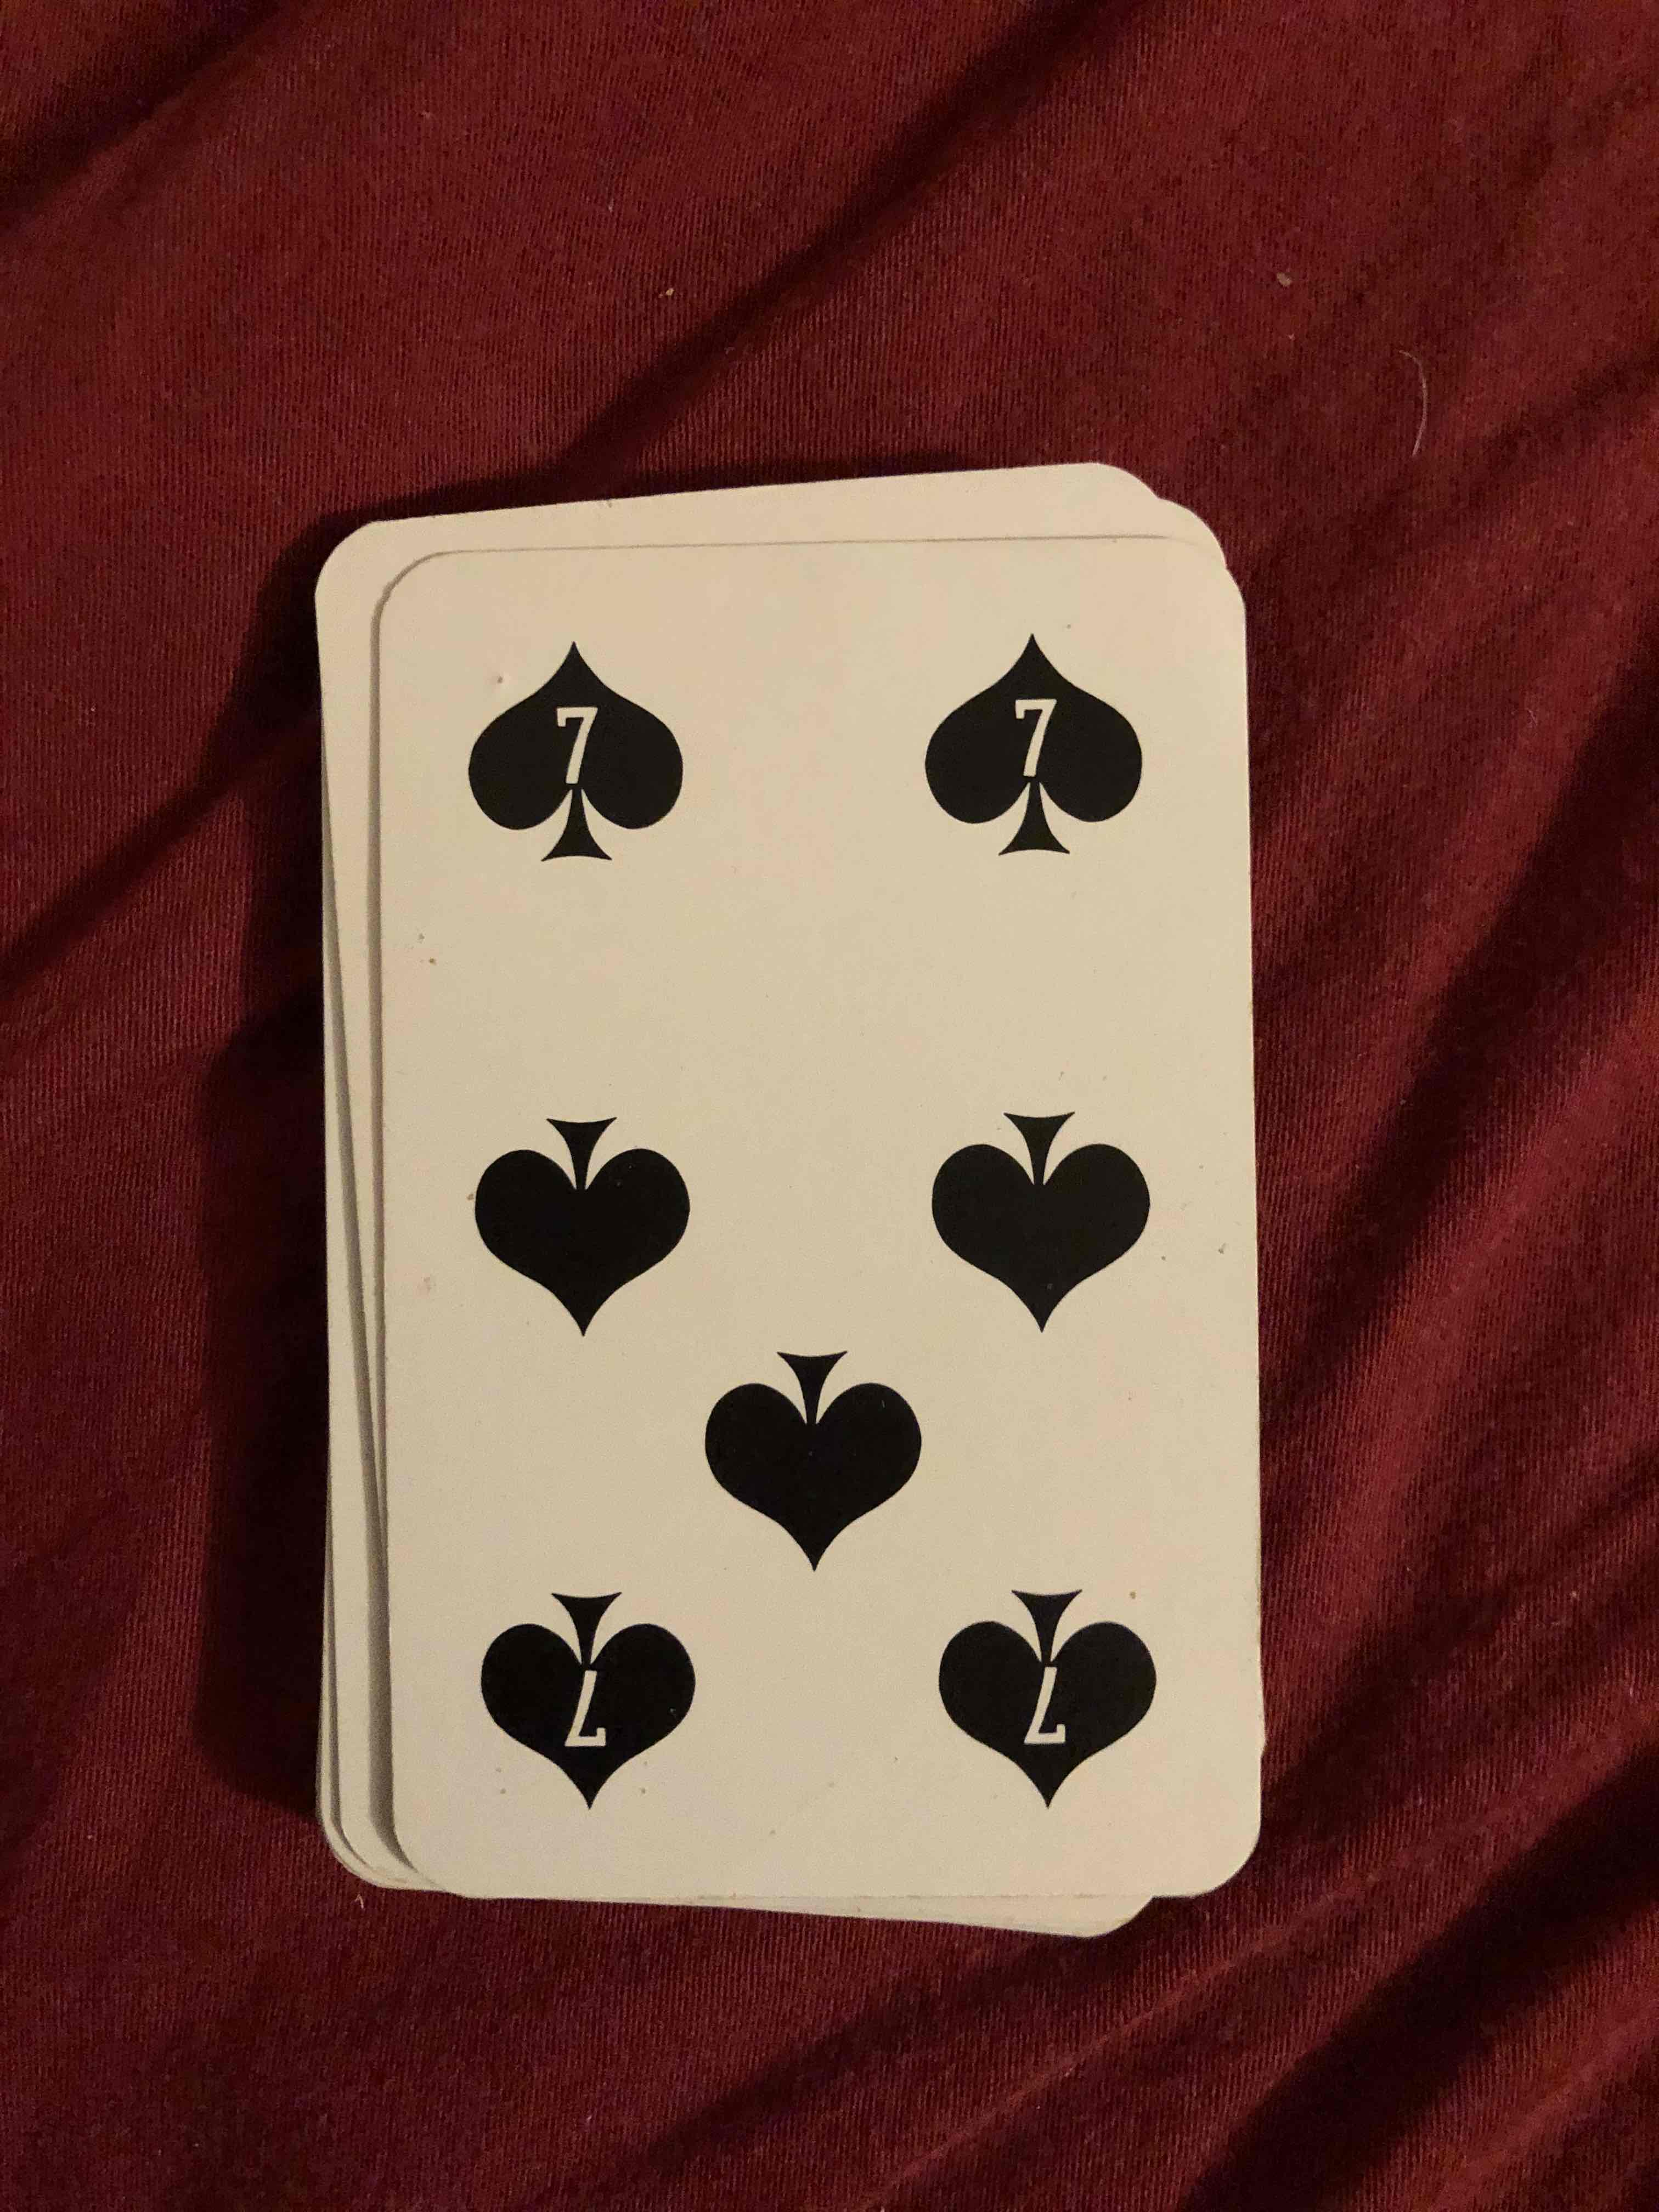spades7: (362, 547, 1256, 1864)
